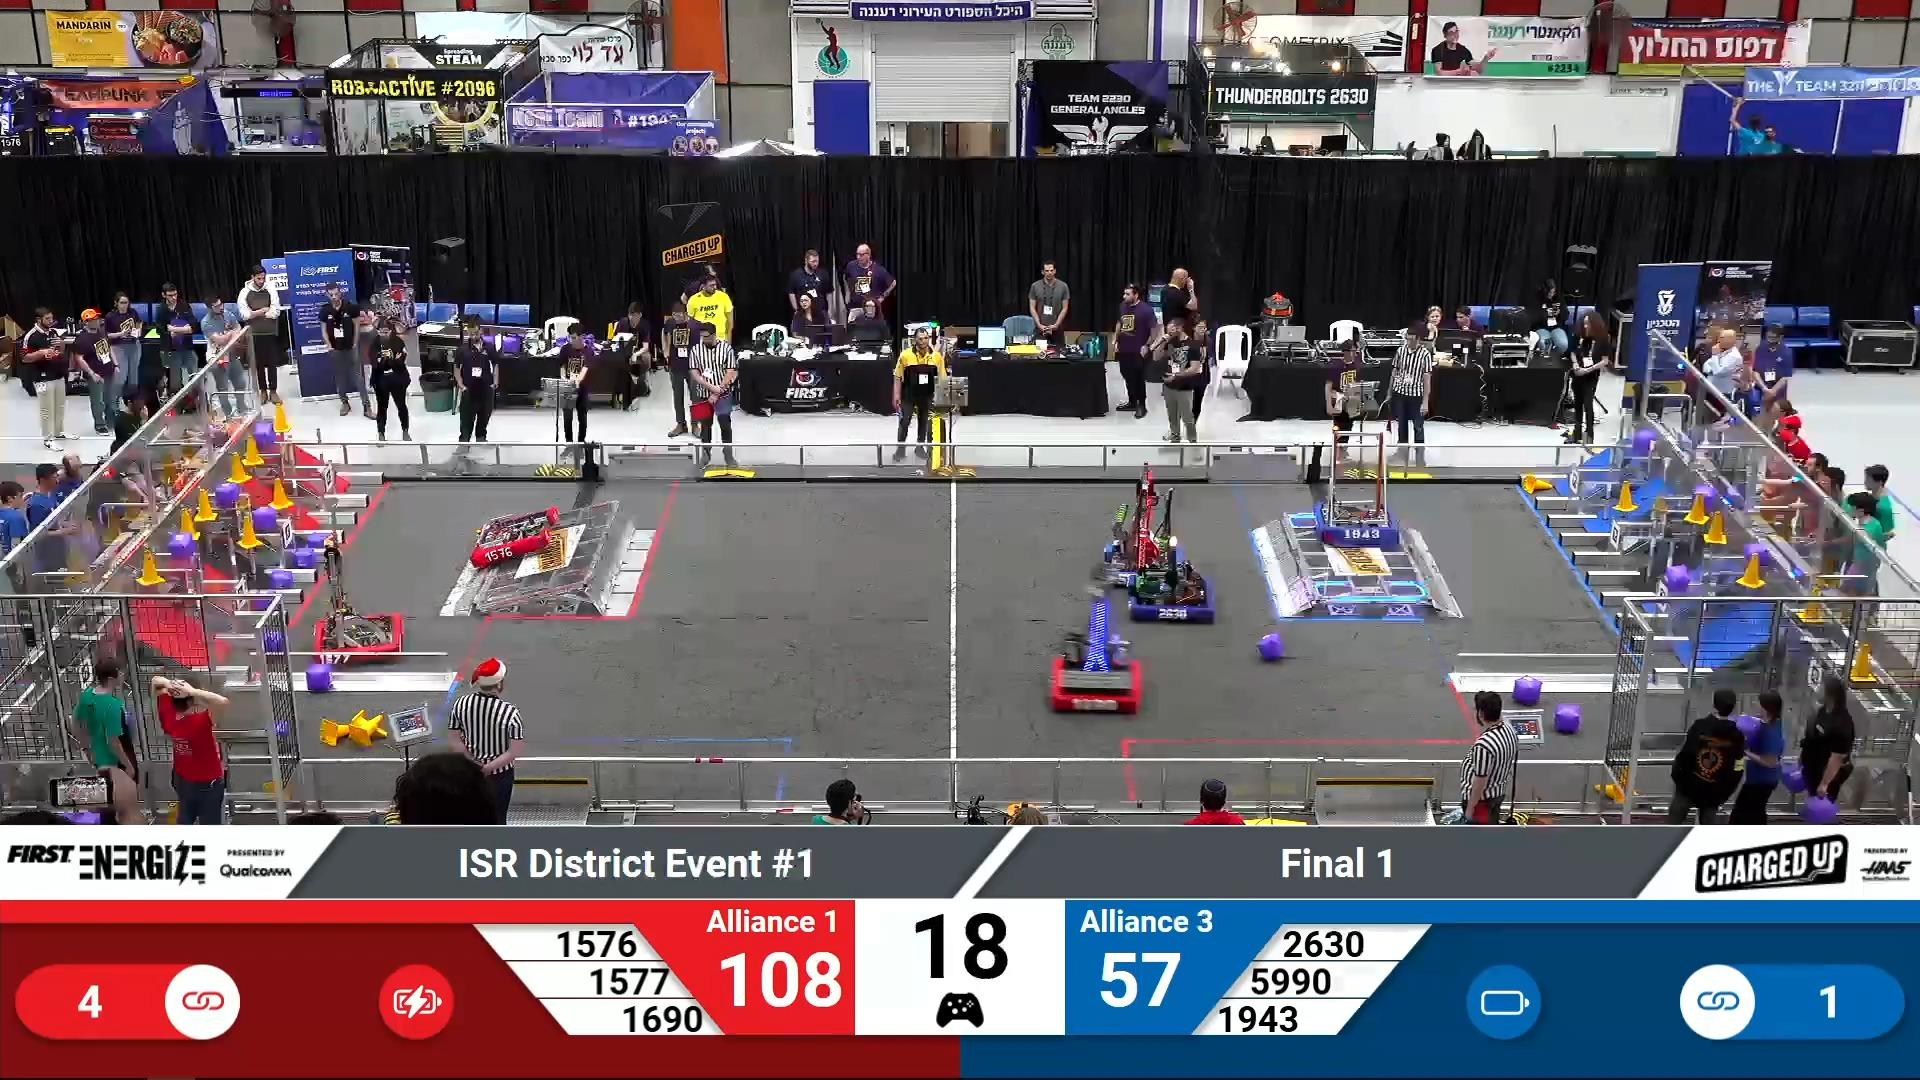robot: (1048, 576, 1145, 713), (1124, 488, 1215, 624), (311, 537, 406, 663), (1312, 427, 1400, 551), (1104, 462, 1184, 593), (467, 505, 564, 571)
